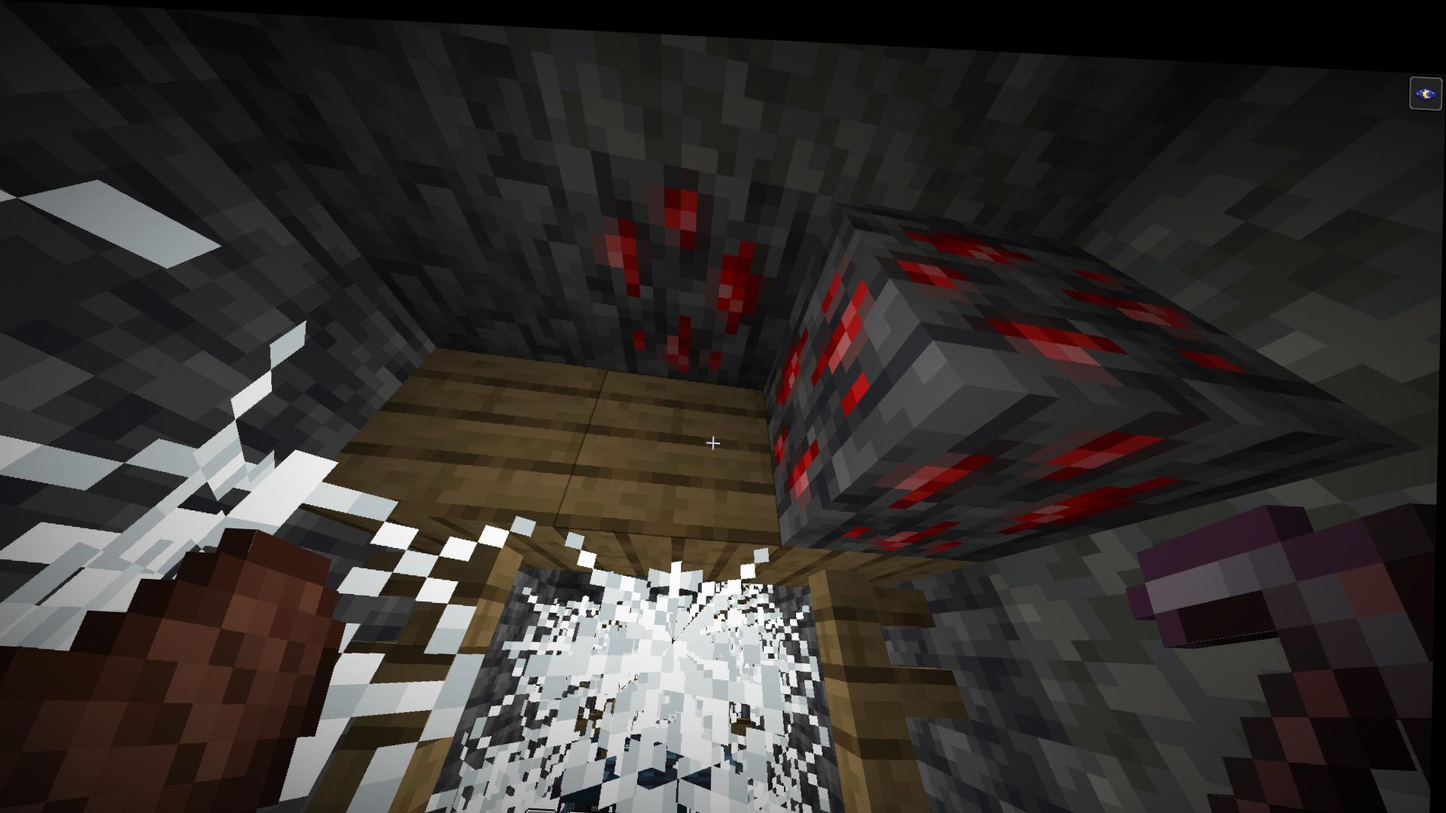redstone ore: (769, 189, 1285, 560), (598, 155, 814, 298), (619, 290, 784, 383)
